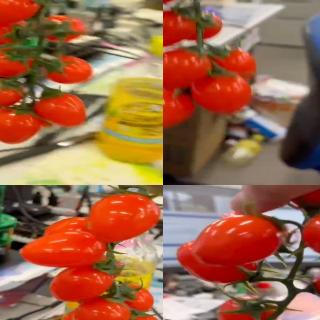tomato: (194, 215, 282, 266), (88, 191, 161, 244), (176, 239, 254, 283), (22, 232, 108, 270), (189, 73, 252, 116), (201, 45, 259, 86), (50, 265, 114, 301), (163, 46, 212, 89), (34, 92, 88, 129), (42, 55, 94, 85), (217, 297, 283, 320), (163, 84, 195, 130), (40, 16, 92, 44), (163, 8, 198, 48), (72, 296, 130, 320), (185, 11, 224, 46), (42, 218, 98, 242), (0, 111, 39, 145), (0, 46, 36, 78), (0, 0, 43, 25), (301, 210, 320, 257), (283, 185, 320, 209), (0, 78, 26, 108), (0, 14, 23, 47), (123, 287, 153, 312), (0, 108, 19, 136)
